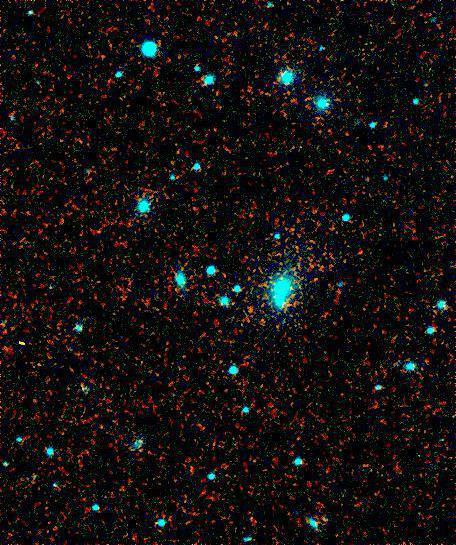star: (249, 302, 279, 332)
